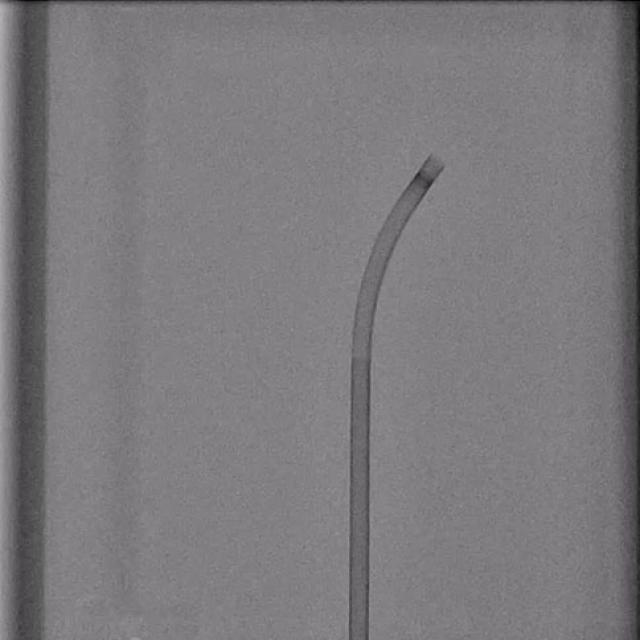bend: (350, 346, 371, 361)
entry: (349, 633, 368, 640)
marker: (414, 169, 434, 190)
tip: (429, 152, 445, 168)
